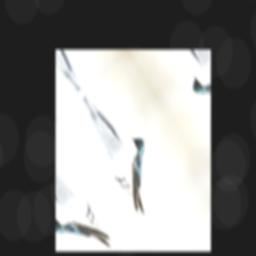Swallow: (103, 130, 174, 220)
